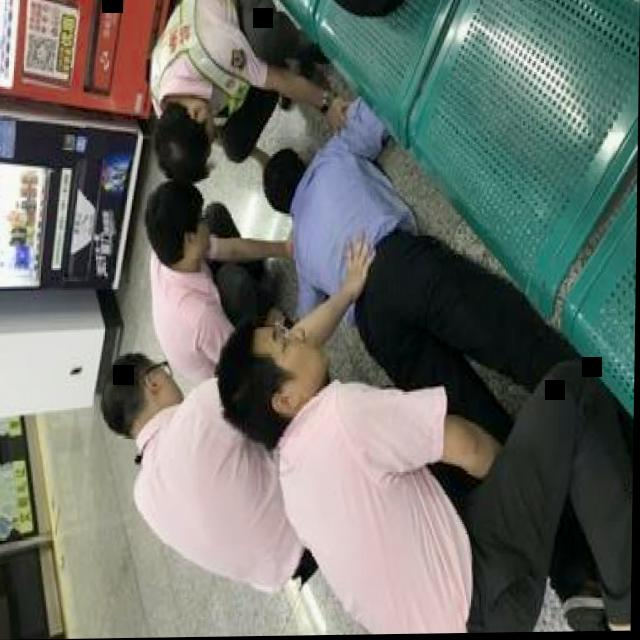Fall-Detected: (259, 102, 622, 424)
